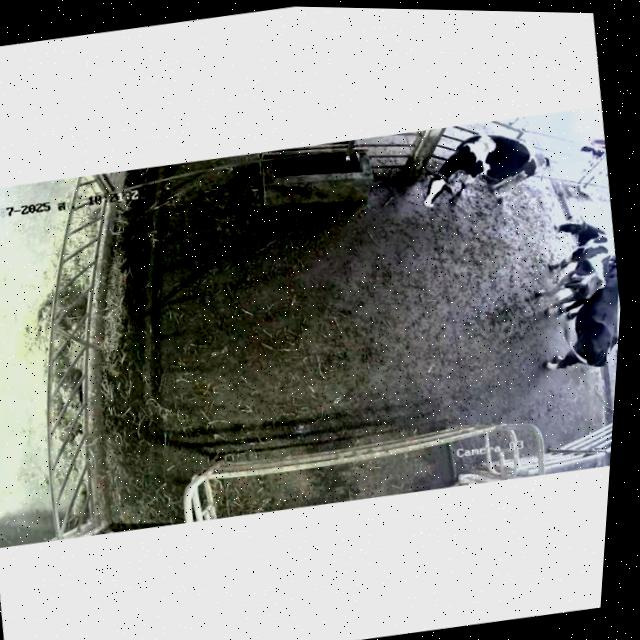stand: (423, 133, 550, 207), (543, 255, 619, 369), (536, 219, 609, 310)
